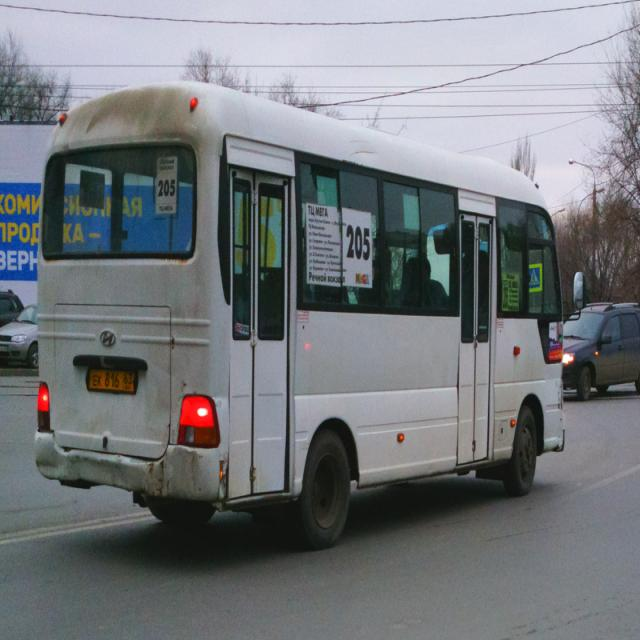number-of-bus: (346, 223, 372, 265), (158, 178, 178, 200)
